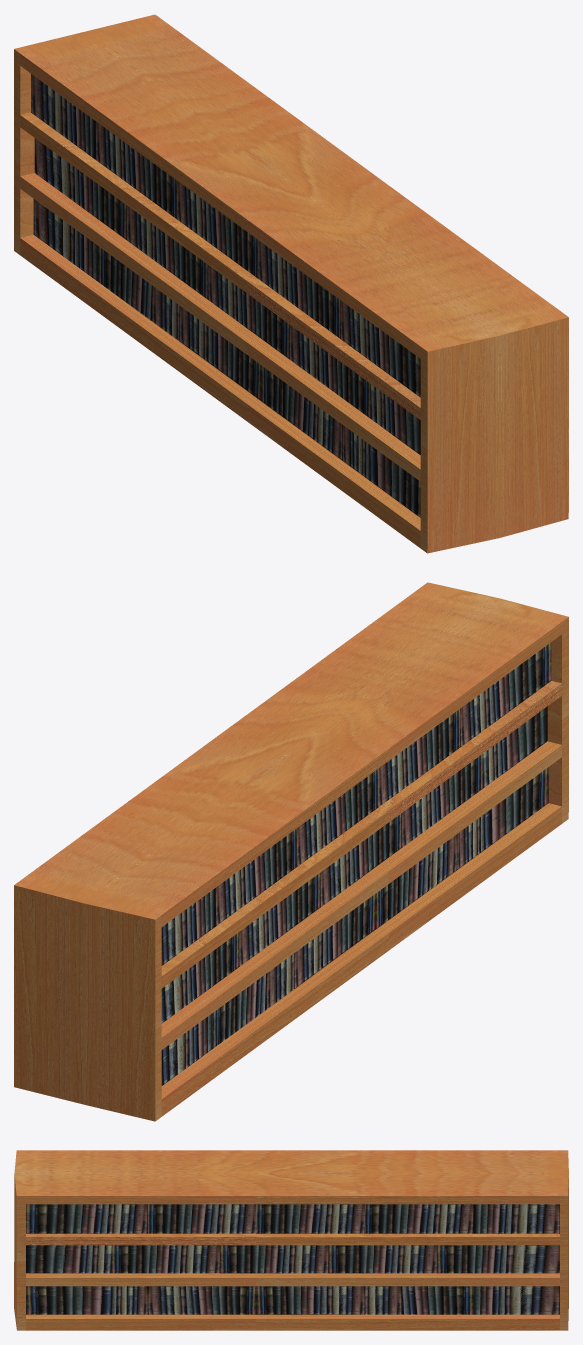
Rendered from bookcase.fbx.
The picture shows the model from 3 angles, top to bottom: view 1: azimuth 30°, elevation 25°; view 2: azimuth 150°, elevation 25°; view 3: azimuth 270°, elevation 25°; orthographic projection. The views are drawn at different scales.
Visible parts, largest first — view 1: Cube; view 2: Cube; view 3: Cube.
Part boxes in pixels (left/top/right/bottom): Cube: left=14, top=14, right=568, bottom=553; Cube: left=14, top=582, right=568, bottom=1121; Cube: left=14, top=1150, right=568, bottom=1330.
Size of the model in its own units: 301 by 411 by 1534.
